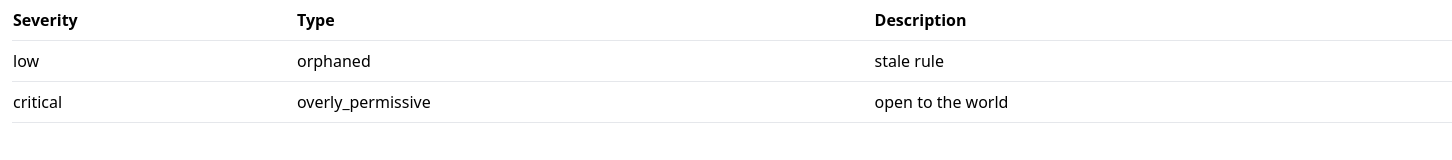
Test: FindingsTable › sorts by severity when the severity header is clicked
Click the column heading "Severity" at (45, 20), box [12,0,296,40]
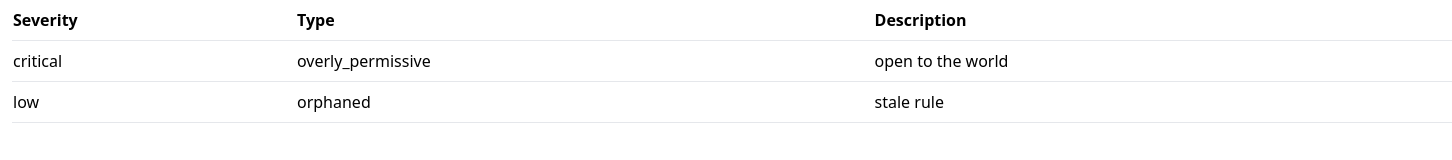
Check: the row "critical overly_permissive open to the world" is shown, box [12,40,1451,82]
